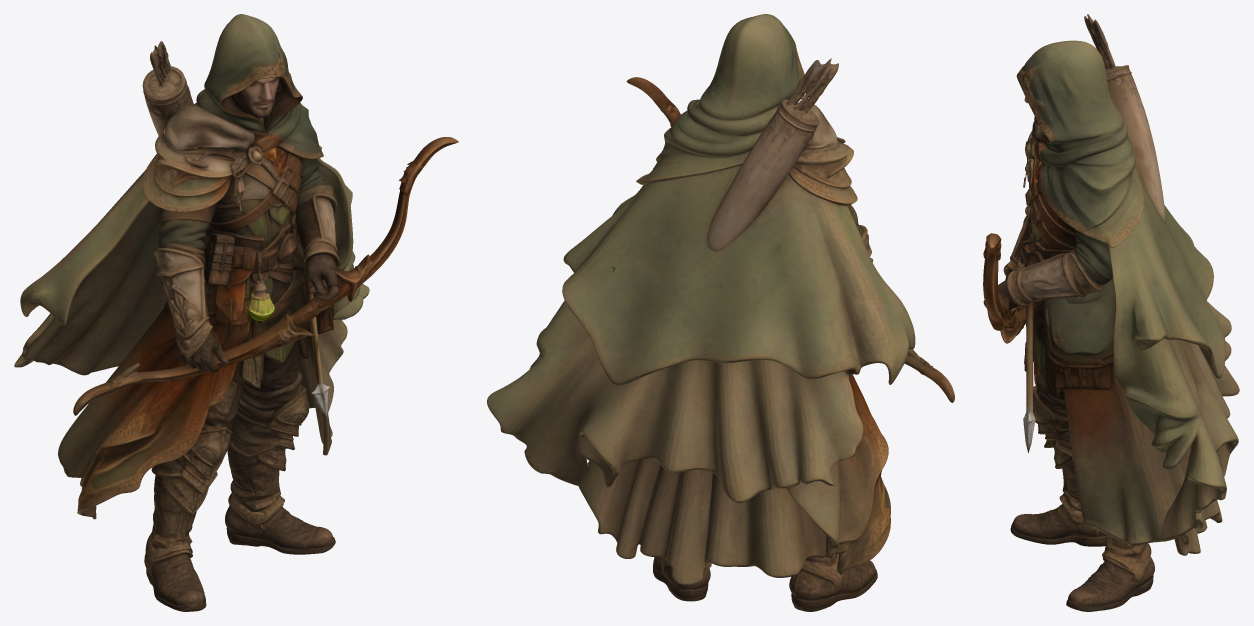
File: ranger_full_male_01.glb
3 views of the same model, side by side, from view 1: azimuth 30°, elevation 25°; view 2: azimuth 150°, elevation 25°; view 3: azimuth 270°, elevation 25° (orthographic). The views are drawn at different scales.
Parts seen in each view (by area): view 1: material; view 2: material; view 3: material.
Boxes of the visible parts, x1,y1,x2,y2 form: material: [14, 14, 458, 611]; material: [487, 14, 954, 611]; material: [983, 14, 1239, 611].
Size of the model in its own units: 0.7751 by 1.09 by 0.4757.
1 material, 1 textured.
